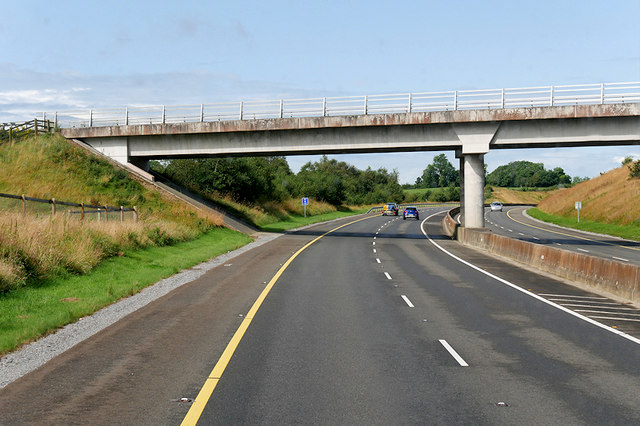bridge: (60, 81, 640, 158)
